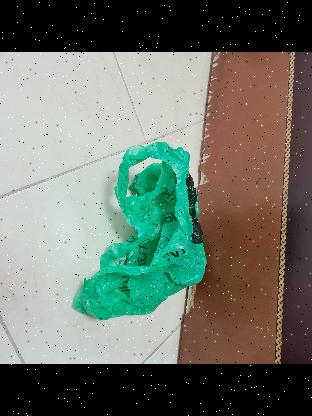Others: (72, 143, 207, 321)
